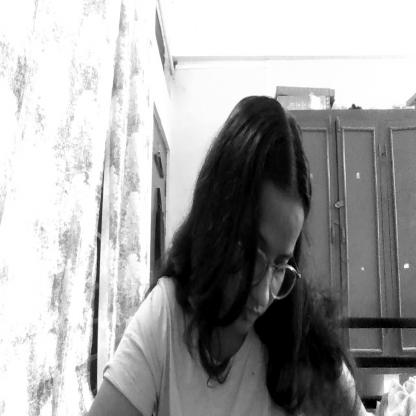Distracted: (228, 186, 310, 333)
